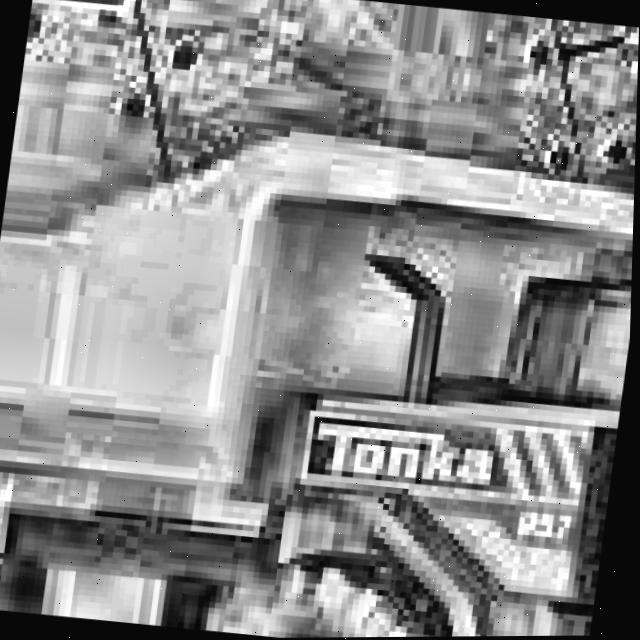dump_truck: (0, 94, 638, 640)
